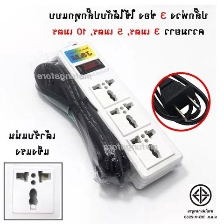three_eye_plug: (54, 40, 185, 191), (9, 166, 57, 216)
